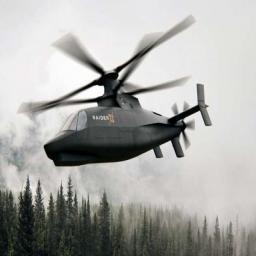helicopter: (18, 10, 217, 172)
